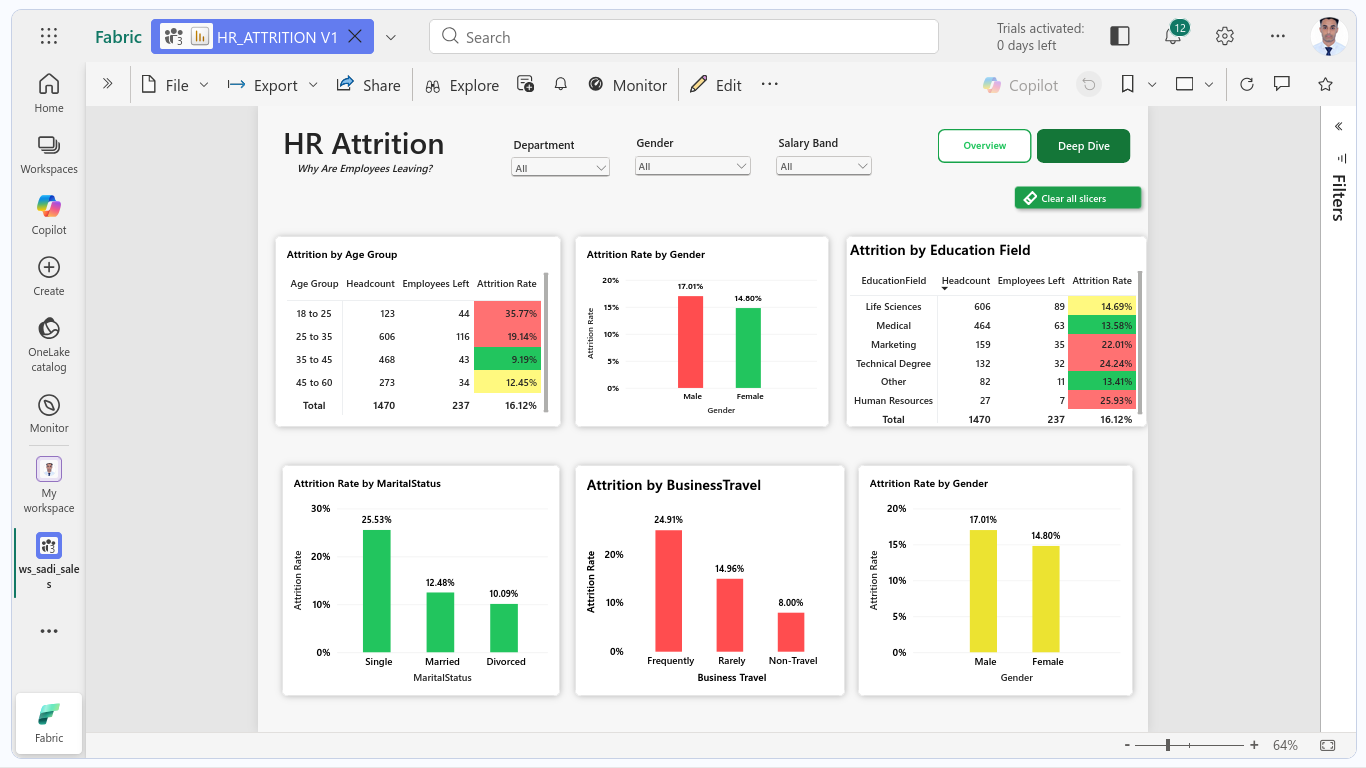

The page's visual inventory and layout, read from the dashboard file:
{"tool":"powerbi","page":{"name":"Deep Dive","canvas":[1280,900],"ordinal":1},"visuals":[{"type":"textbox","box":[35.4,21.3,279.9,74.4],"z":0},{"type":"textbox","box":[56.7,78,279.9,33.7],"z":1000},{"type":"slicer","fields":{"Values":["HR_Employee.Department"]},"box":[359.6,44.3,152.4,67.3],"z":2000},{"type":"slicer","fields":{"Values":["HR_Employee.Gender"]},"box":[536.8,42.5,177.2,69.1],"z":3000},{"type":"slicer","fields":{"Values":["HR_Employee.Salary Band"]},"box":[740.6,42.5,147,63.8],"z":4000},{"type":"actionButton","box":[1078.9,106.3,200.2,49.6],"z":5000},{"type":"pageNavigator","box":[978,33.7,279.9,49.6],"z":6000},{"type":"pivotTable","title":"Attrition by Age Group","fields":{"Rows":["HR_Employee.Age Group"],"Values":["HR_Employee.Headcount","HR_Employee.Employees Left","HR_Employee.Attrition Rate"]},"box":[25,186.7,410,275],"z":7000},{"type":"pivotTable","title":"Attrition by Education Field","fields":{"Rows":["HR_Employee.EducationField"],"Values":["HR_Employee.Headcount","HR_Employee.Employees Left","HR_Employee.Attrition Rate"]},"box":[845,186.7,433.3,275],"z":8000},{"type":"clusteredColumnChart","fields":{"Category":["HR_Employee.Gender"],"Y":["HR_Employee.Attrition Rate"]},"box":[456.7,186.7,365,275],"z":9000},{"type":"clusteredColumnChart","fields":{"Category":["HR_Employee.MaritalStatus"],"Y":["HR_Employee.Attrition Rate"]},"box":[35,516.7,400,331.7],"z":9001},{"type":"clusteredColumnChart","title":"Attrition by BusinessTravel","fields":{"Category":["HR_Employee.Short Travel"],"Y":["HR_Employee.Attrition Rate"]},"box":[456.7,516.7,388.3,331.7],"z":9002},{"type":"clusteredColumnChart","fields":{"Category":["HR_Employee.Gender"],"Y":["HR_Employee.Attrition Rate"]},"box":[863.3,516.7,395,331.7],"z":9003}]}

Visuals, with their boxes on the page's 1280x900 design canvas (x1, y1, x2, y2). These are canvas units, not pixel positions in the 1366x768 screenshot, which may show the page scaled, cropped or inside an application window:
textbox: x1=35 y1=21 x2=315 y2=96
textbox: x1=57 y1=78 x2=337 y2=112
slicer - HR_Employee.Department: x1=360 y1=44 x2=512 y2=112
slicer - HR_Employee.Gender: x1=537 y1=42 x2=714 y2=112
slicer - HR_Employee.Salary Band: x1=741 y1=42 x2=888 y2=106
actionButton: x1=1079 y1=106 x2=1279 y2=156
pageNavigator: x1=978 y1=34 x2=1258 y2=83
"Attrition by Age Group" pivotTable: x1=25 y1=187 x2=435 y2=462
"Attrition by Education Field" pivotTable: x1=845 y1=187 x2=1278 y2=462
clusteredColumnChart - HR_Employee.Gender x HR_Employee.Attrition Rate: x1=457 y1=187 x2=822 y2=462
clusteredColumnChart - HR_Employee.MaritalStatus x HR_Employee.Attrition Rate: x1=35 y1=517 x2=435 y2=848
"Attrition by BusinessTravel" clusteredColumnChart: x1=457 y1=517 x2=845 y2=848
clusteredColumnChart - HR_Employee.Gender x HR_Employee.Attrition Rate: x1=863 y1=517 x2=1258 y2=848
